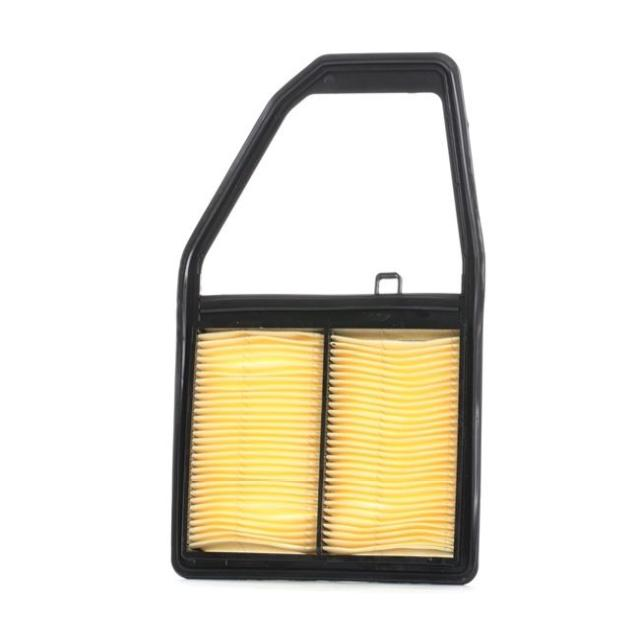air_filter: (166, 49, 485, 585)
